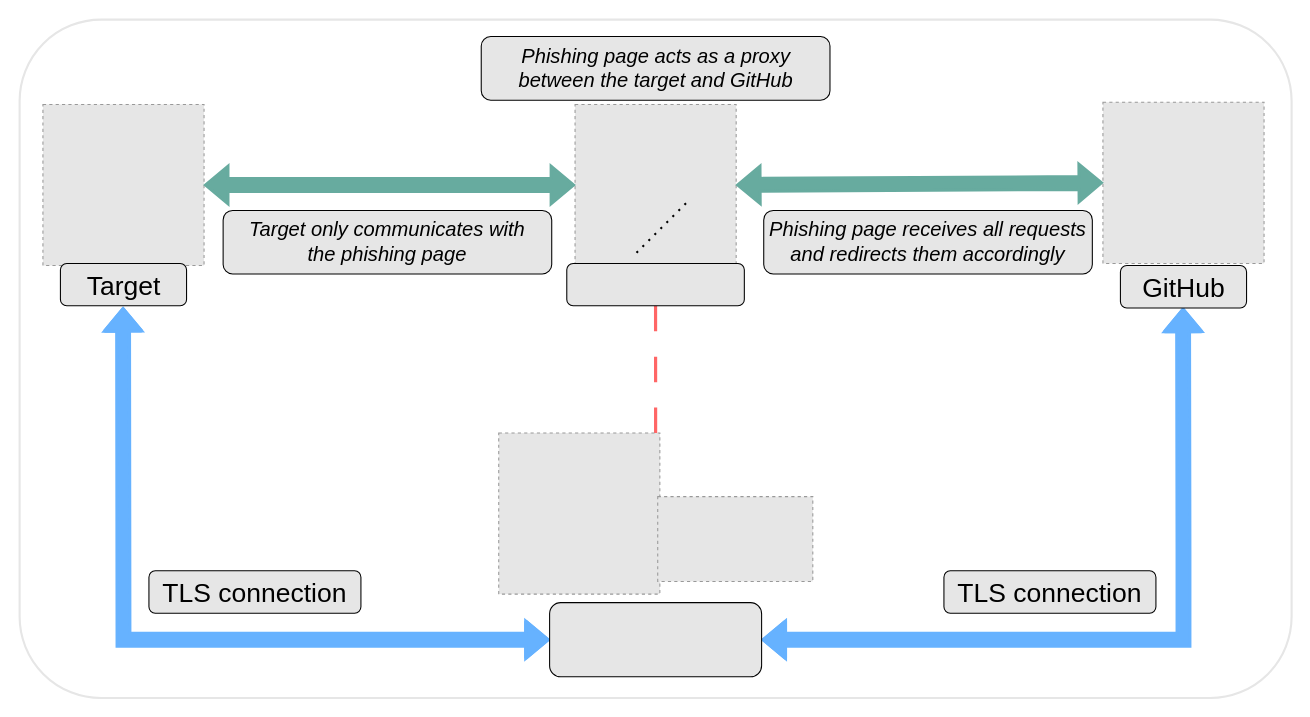
The diagram is 1310 pixels wide and 717 high, and some of its shapes have lost their labels. Grey dashed boxes stand in for pictures. Each missing label, with the box of its shape:
Attacker with evilginx2: (549, 602, 762, 677)
Phishing page: (566, 262, 744, 306)
